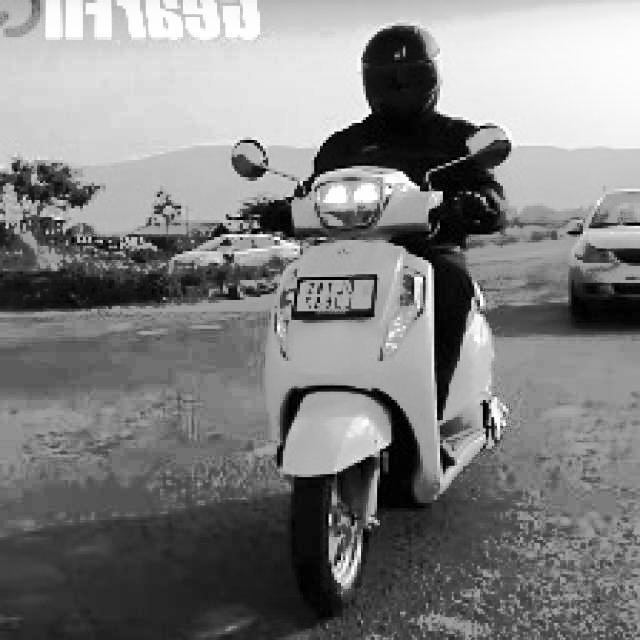Bike: (250, 156, 502, 601)
